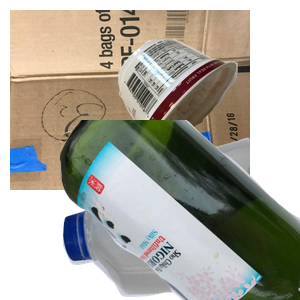cardboard: (10, 10, 250, 190)
glass: (60, 120, 300, 300)
plastic: (60, 135, 300, 300)
trash: (116, 36, 300, 187)
